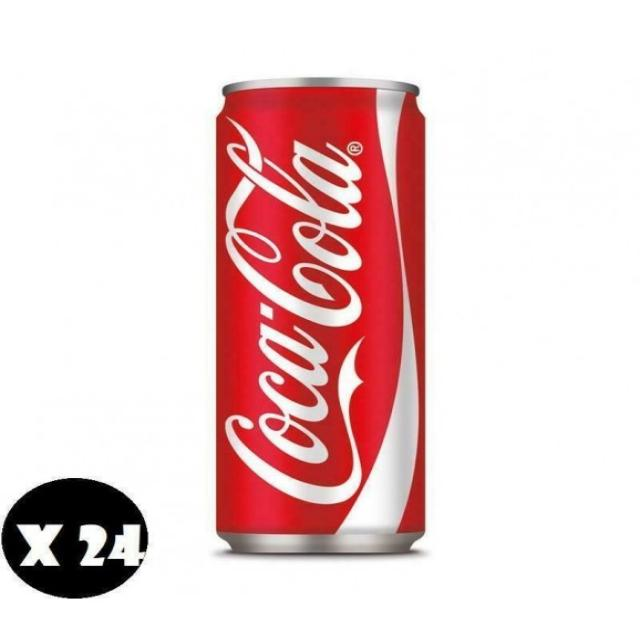cocacola: (210, 77, 437, 559)
